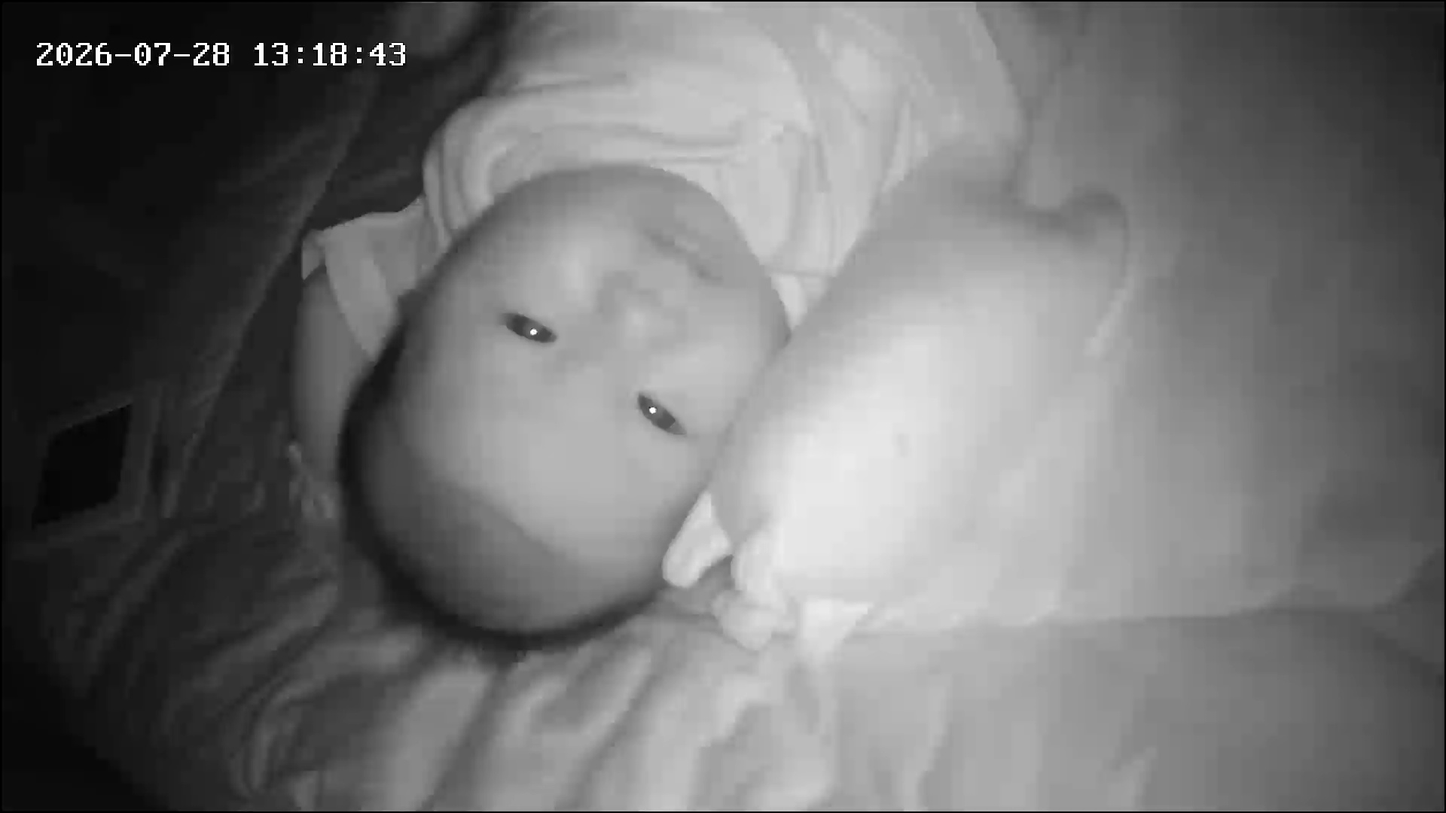baby: (307, 1, 1111, 668)
baby_face: (331, 153, 800, 664)
